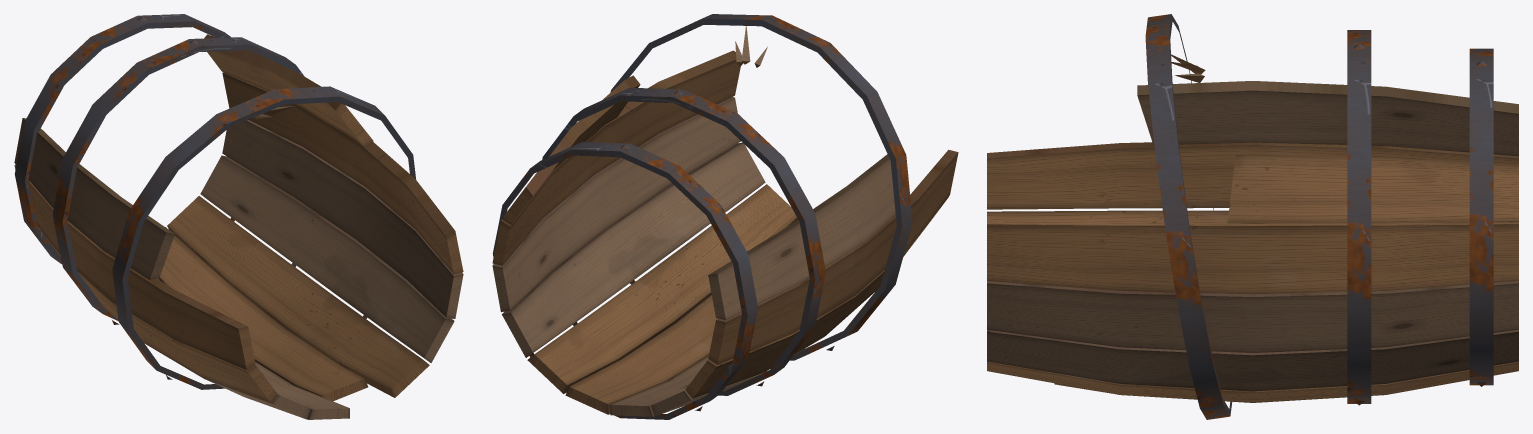
File: Broken_Barrel_A.glb
3 renders of one model, left to right at view 1: azimuth 30°, elevation 25°; view 2: azimuth 150°, elevation 25°; view 3: azimuth 270°, elevation 25°, orthographic. The views are drawn at different scales.
Parts seen in each view (by area): view 1: Broken_Barrel_A; view 2: Broken_Barrel_A; view 3: Broken_Barrel_A.
Part boxes in pixels (x1,y1,x2,y2): Broken_Barrel_A: (14,14,463,419); Broken_Barrel_A: (492,14,958,419); Broken_Barrel_A: (987,14,1518,419).
Size of the model in its own units: 0.7656 by 0.7676 by 1.
2 materials, 2 textured.
